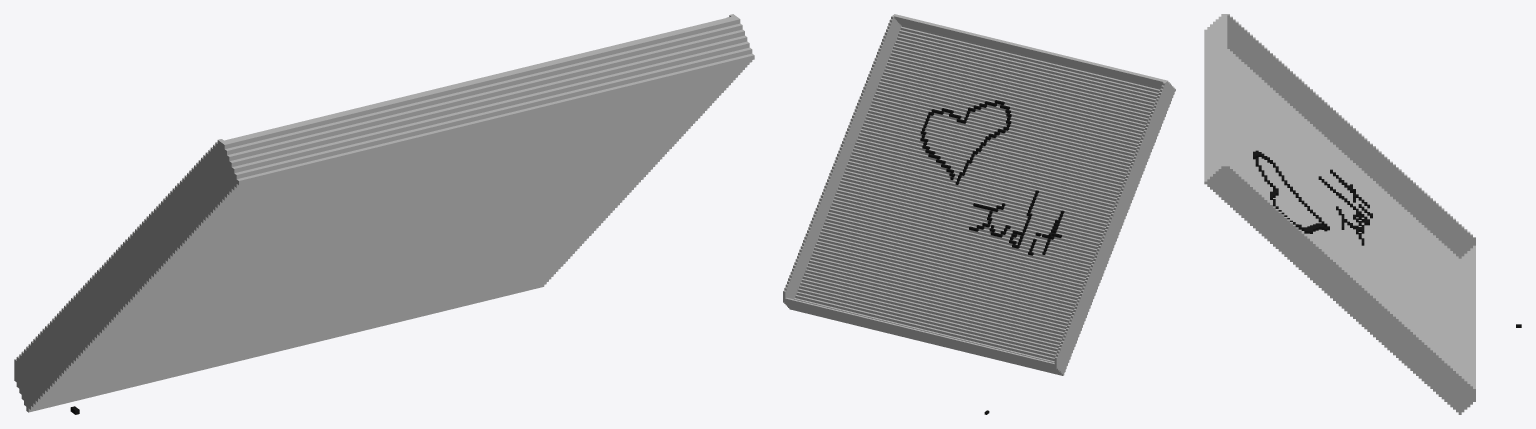
The model's file is comida-8.obj.
The picture shows the model from 3 angles, left to right: view 1: azimuth 30°, elevation 25°; view 2: azimuth 150°, elevation 25°; view 3: azimuth 270°, elevation 25°; orthographic projection. The views are drawn at different scales.
Size of the model in its own units: 12.6 by 11 by 11.1.
Materials: 1 (1 with a texture image).
